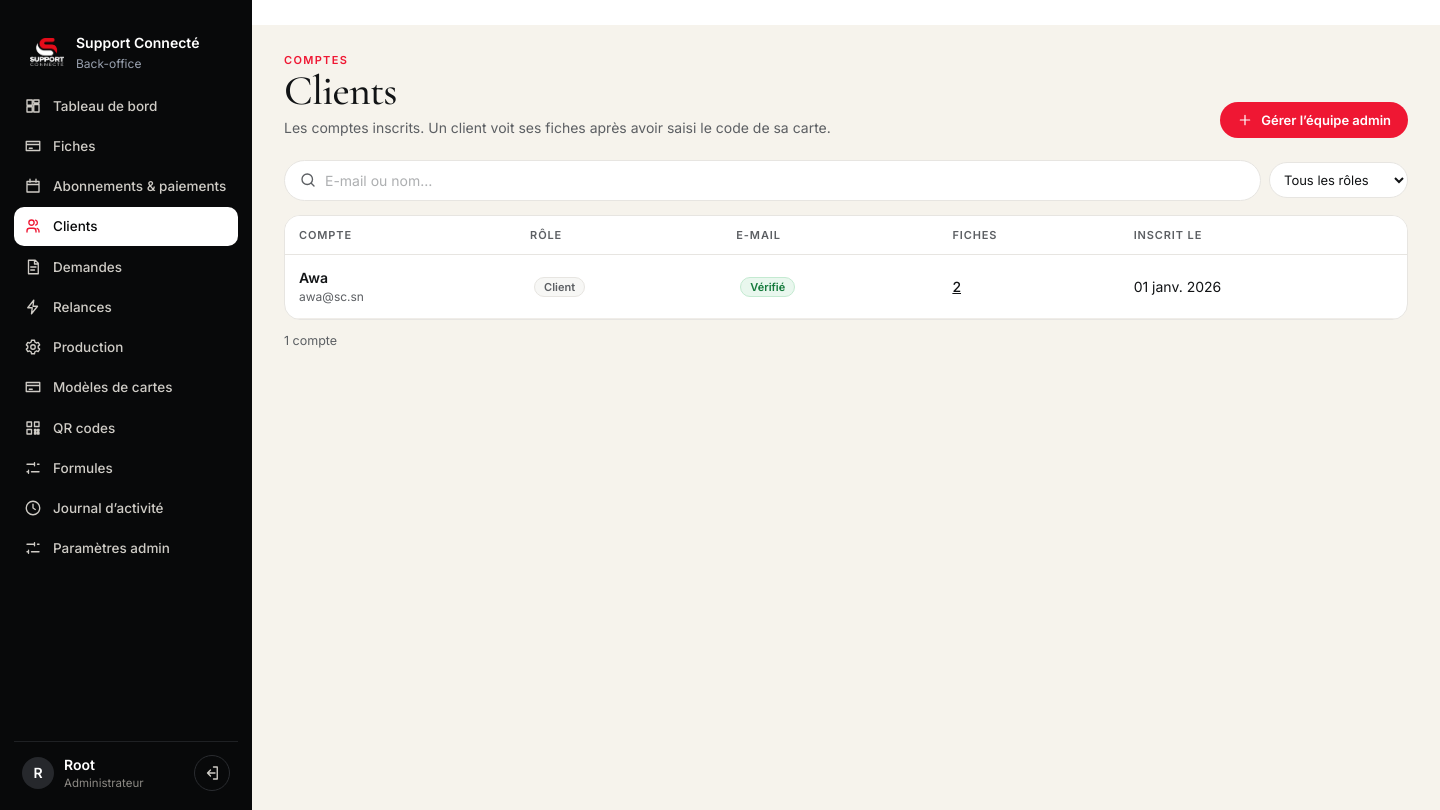
pages du back-office › un client ouvre la liste de ses fiches (?userId=)
The image size is (1440, 810).
Click the row that starts with "Awa". click: (846, 286)
box: [285,254,1407,318]
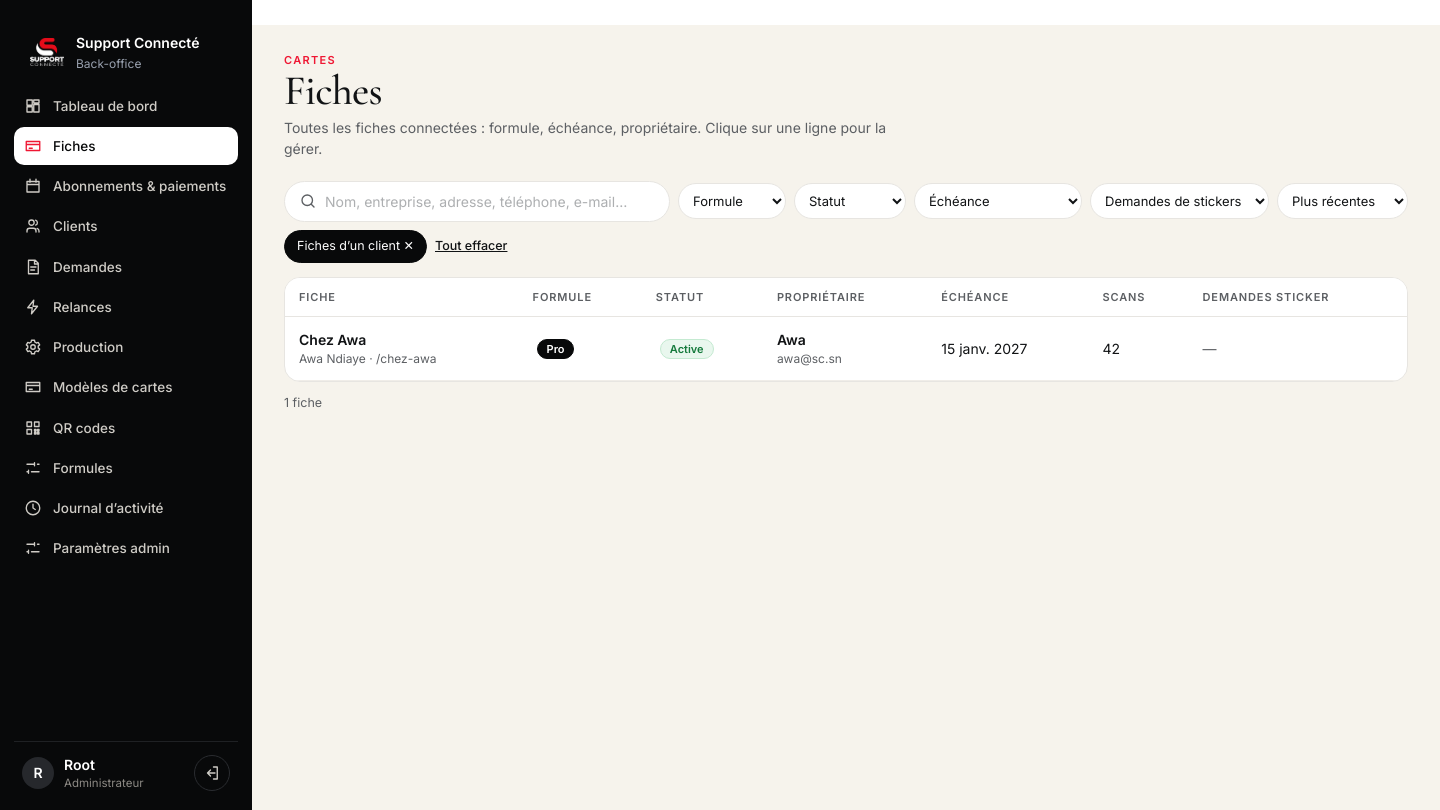
expect the text "Fiches d’un client" is shown: met, box [284,230,427,263]
